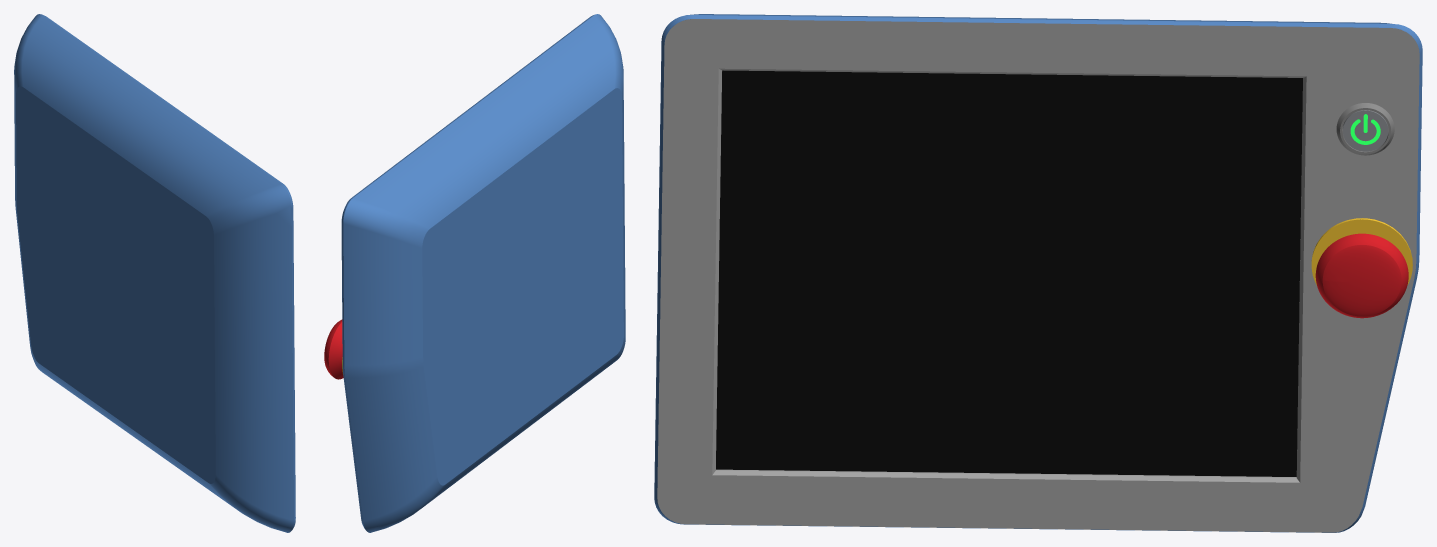
File: TeachPendant.fbx
3 renders of one model, left to right at view 1: azimuth 30°, elevation 25°; view 2: azimuth 150°, elevation 25°; view 3: azimuth 270°, elevation 25°, orthographic. The views are drawn at different scales.
Parts seen in each view (by area): view 1: Tablet; view 2: Tablet, EmergencyButton; view 3: Screen, Tablet, EmergencyButton, EmergencyButtonFrame, PowerButton, PowerButtonFrame.
Boxes of the visible parts, <box> form: Tablet: <box>14,14,295,532</box>; Tablet: <box>341,14,625,532</box>; EmergencyButton: <box>324,319,343,379</box>; Screen: <box>716,70,1302,476</box>; Tablet: <box>654,14,1422,532</box>; EmergencyButton: <box>1315,233,1408,318</box>; EmergencyButtonFrame: <box>1311,218,1412,285</box>; PowerButton: <box>1343,110,1388,151</box>; PowerButtonFrame: <box>1336,103,1394,155</box>.
Size of the model in its own units: 5.57 by 24.59 by 33.07.
